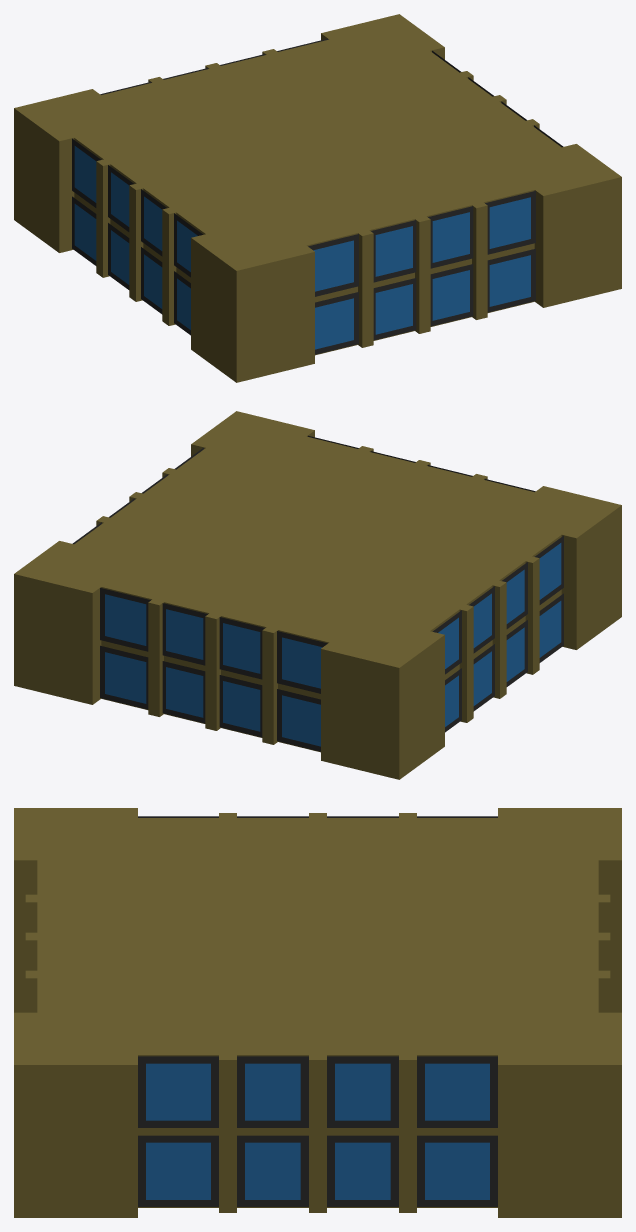
File: tower_section.FBX
3 renders of one model, top to bottom at view 1: azimuth 30°, elevation 25°; view 2: azimuth 150°, elevation 25°; view 3: azimuth 270°, elevation 25°, orthographic. The views are drawn at different scales.
Visible parts, largest first — view 1: tower_section; view 2: tower_section; view 3: tower_section.
Part boxes in pixels (bbox=[...]): tower_section: bbox=[14, 14, 621, 382]; tower_section: bbox=[14, 411, 621, 779]; tower_section: bbox=[14, 808, 621, 1217].
Size of the model in its own units: 27432 by 7612 by 27432.
